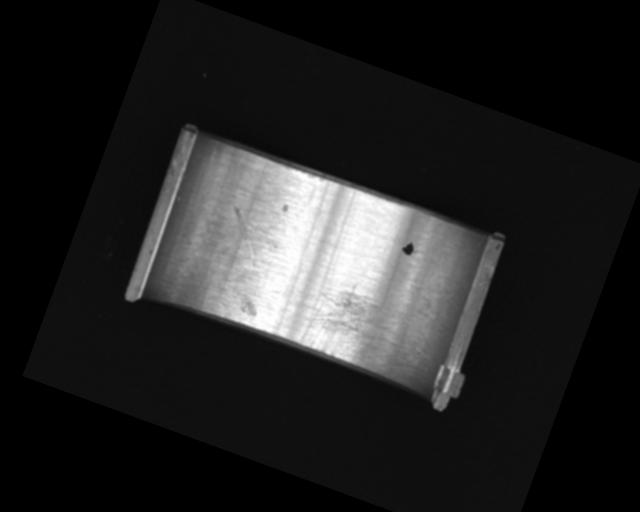blot: (399, 239, 416, 257)
bruise: (233, 292, 262, 319), (280, 201, 290, 214)
nick: (218, 207, 270, 267)
scratch: (297, 272, 430, 383)
